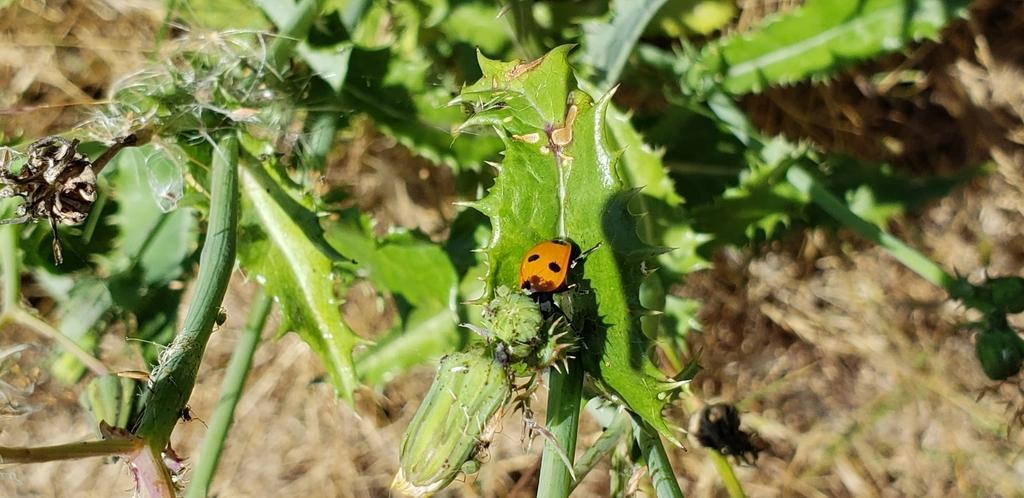ladybug: (518, 236, 606, 355)
